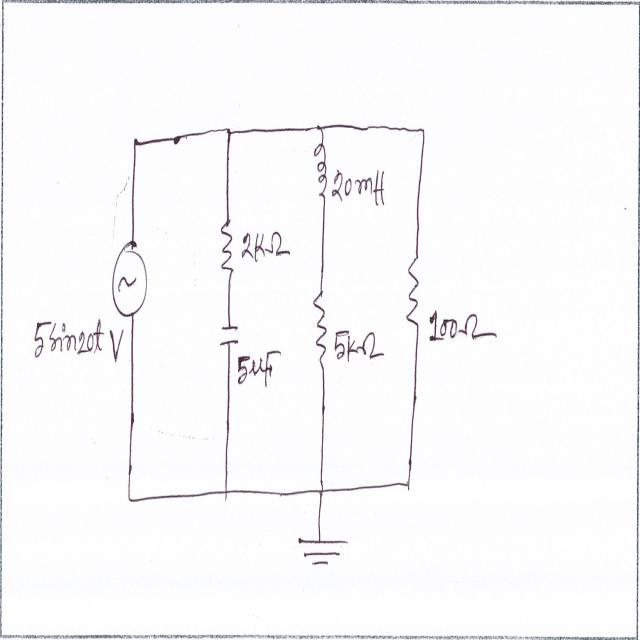ac_current: (112, 242, 152, 318)
capacitor: (216, 317, 242, 353)
ground: (298, 532, 351, 575)
inductor: (313, 125, 331, 201)
resistor: (309, 289, 329, 365), (405, 254, 422, 333), (220, 219, 238, 280)
